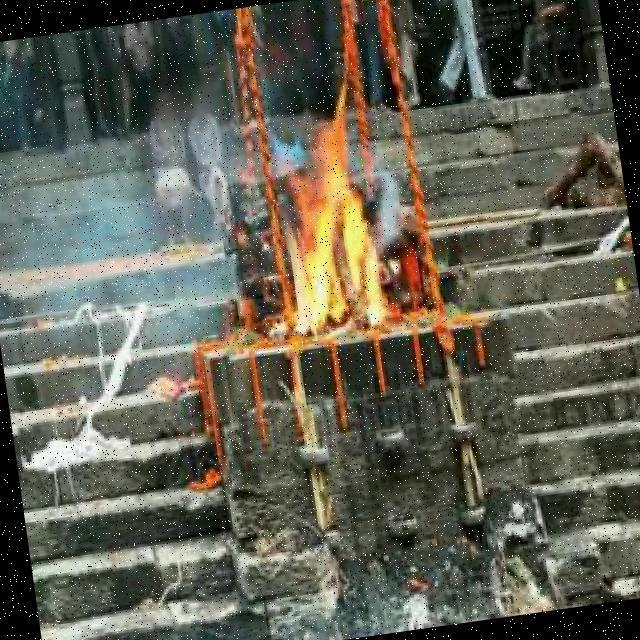Fire: (262, 108, 395, 345)
